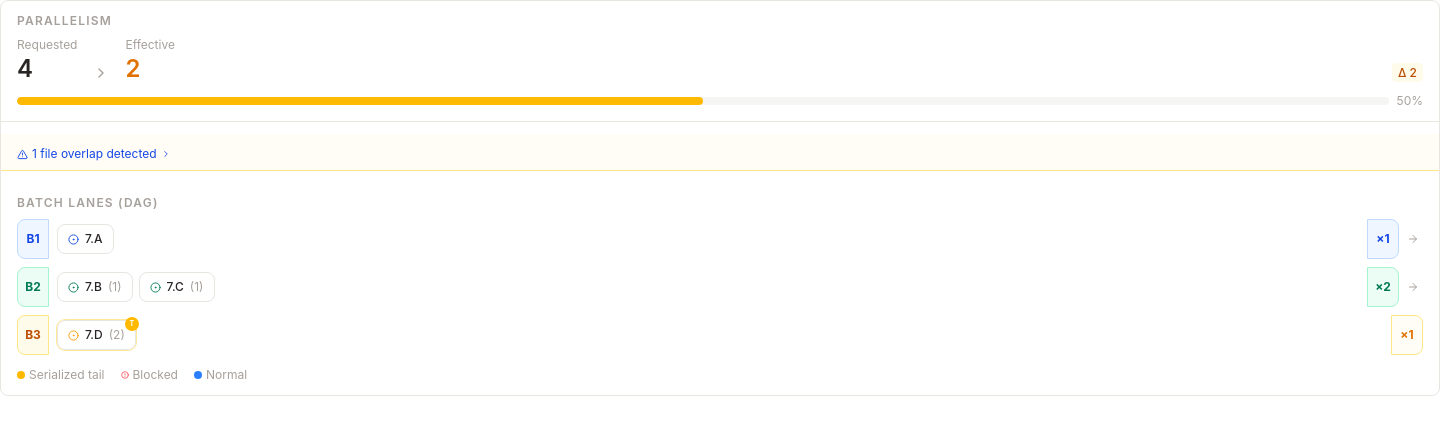
Scenario: AC 5: Displays file-overlap and dependency-cycle warnings › expands file overlaps on click
The width and height of the screenshot is (1440, 435).
Note: Click the overlap toggle to expand
Click the button "1 file overlap detected" at (94, 154), box [17,146,171,162]
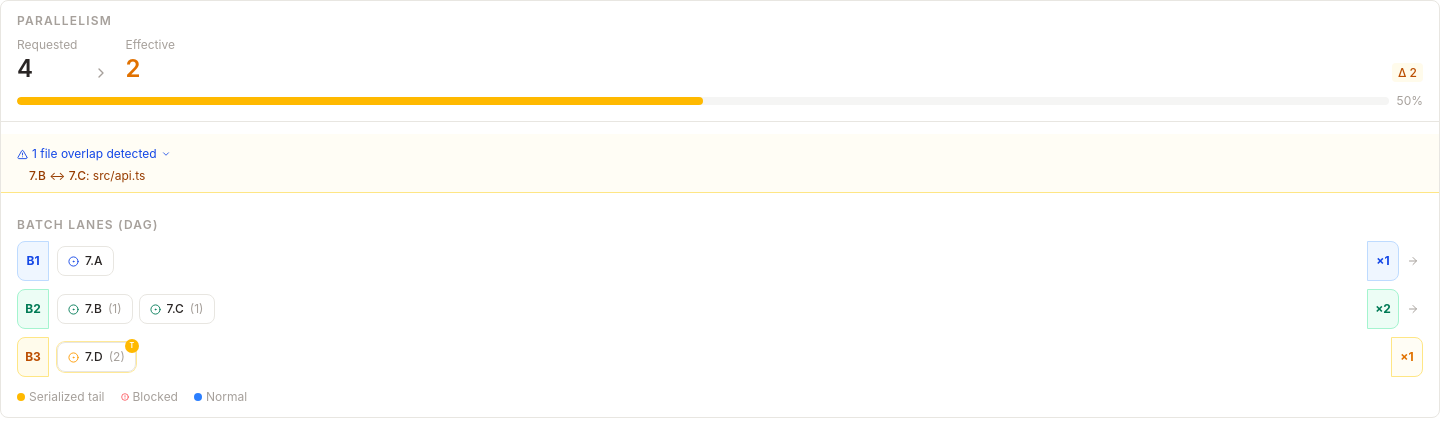
Check: the text "7.B ↔ 7.C: src/api.ts" is shown, box [29,168,145,183]
